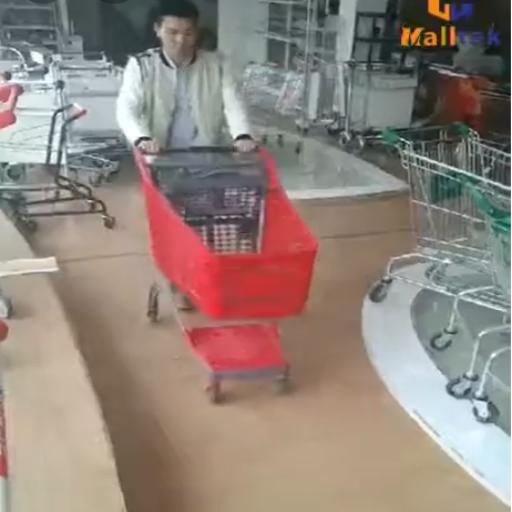shopping_cart: (133, 135, 321, 406), (368, 121, 512, 312), (430, 165, 512, 425)
